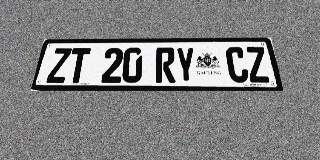0: (121, 48, 143, 83)
2: (101, 48, 124, 83)
C: (225, 47, 250, 83)
R: (156, 47, 175, 83)
T: (66, 48, 91, 83)
Y: (175, 47, 196, 83)
Z: (244, 47, 271, 83), (46, 48, 72, 83)
